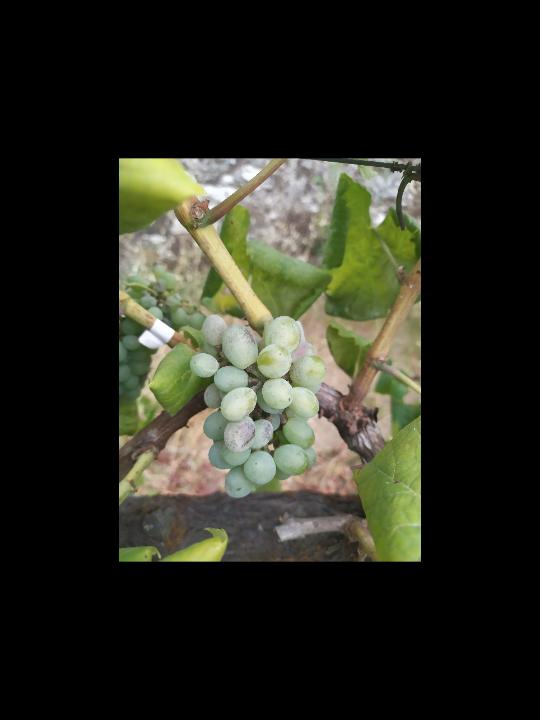grape: (188, 312, 328, 499)
